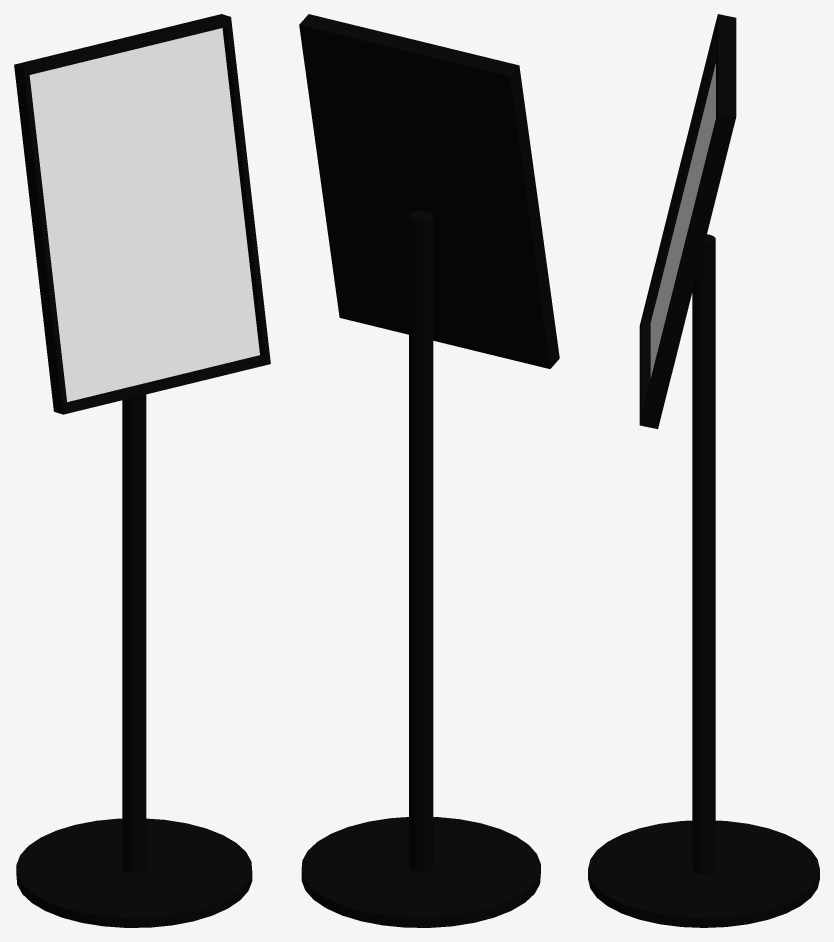
The model's file is sign.obj.
3 views of the same model, side by side, from view 1: azimuth 30°, elevation 25°; view 2: azimuth 150°, elevation 25°; view 3: azimuth 270°, elevation 25° (orthographic). The views are drawn at different scales.
Parts seen in each view (by area): view 1: Cube, Cylinder; view 2: Cube, Cylinder; view 3: Cylinder, Cube.
Part boxes in pixels (bbox=[...]): Cube: bbox=[14, 14, 270, 414]; Cylinder: bbox=[16, 394, 252, 927]; Cube: bbox=[299, 14, 559, 368]; Cylinder: bbox=[301, 210, 540, 927]; Cylinder: bbox=[588, 234, 819, 927]; Cube: bbox=[639, 14, 736, 428].
Size of the model in its own units: 0.5 by 1.91 by 0.4927.
